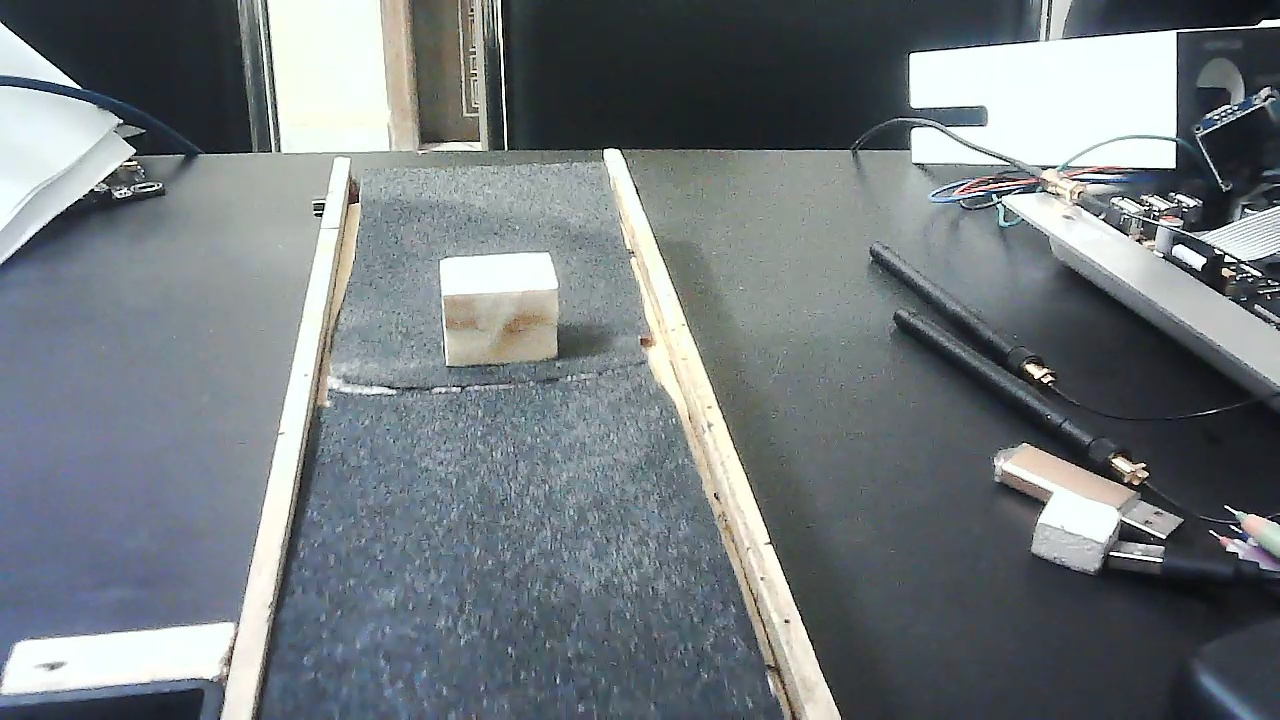Medium: (439, 249, 561, 371)
